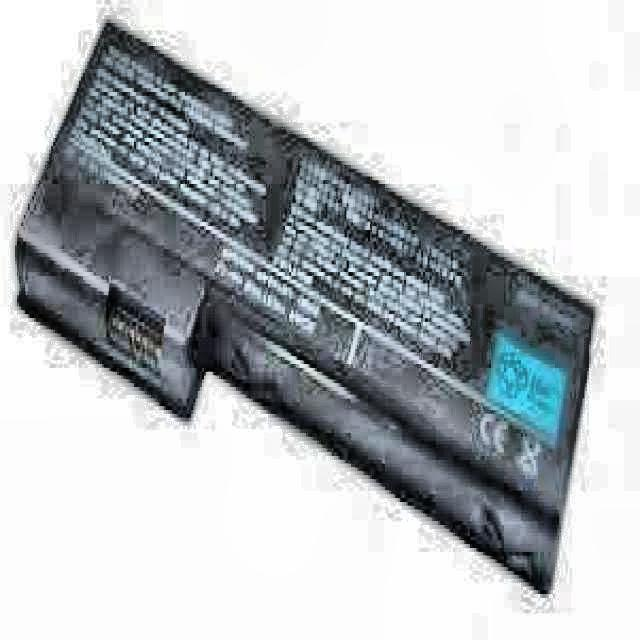battery: (17, 19, 593, 599)
